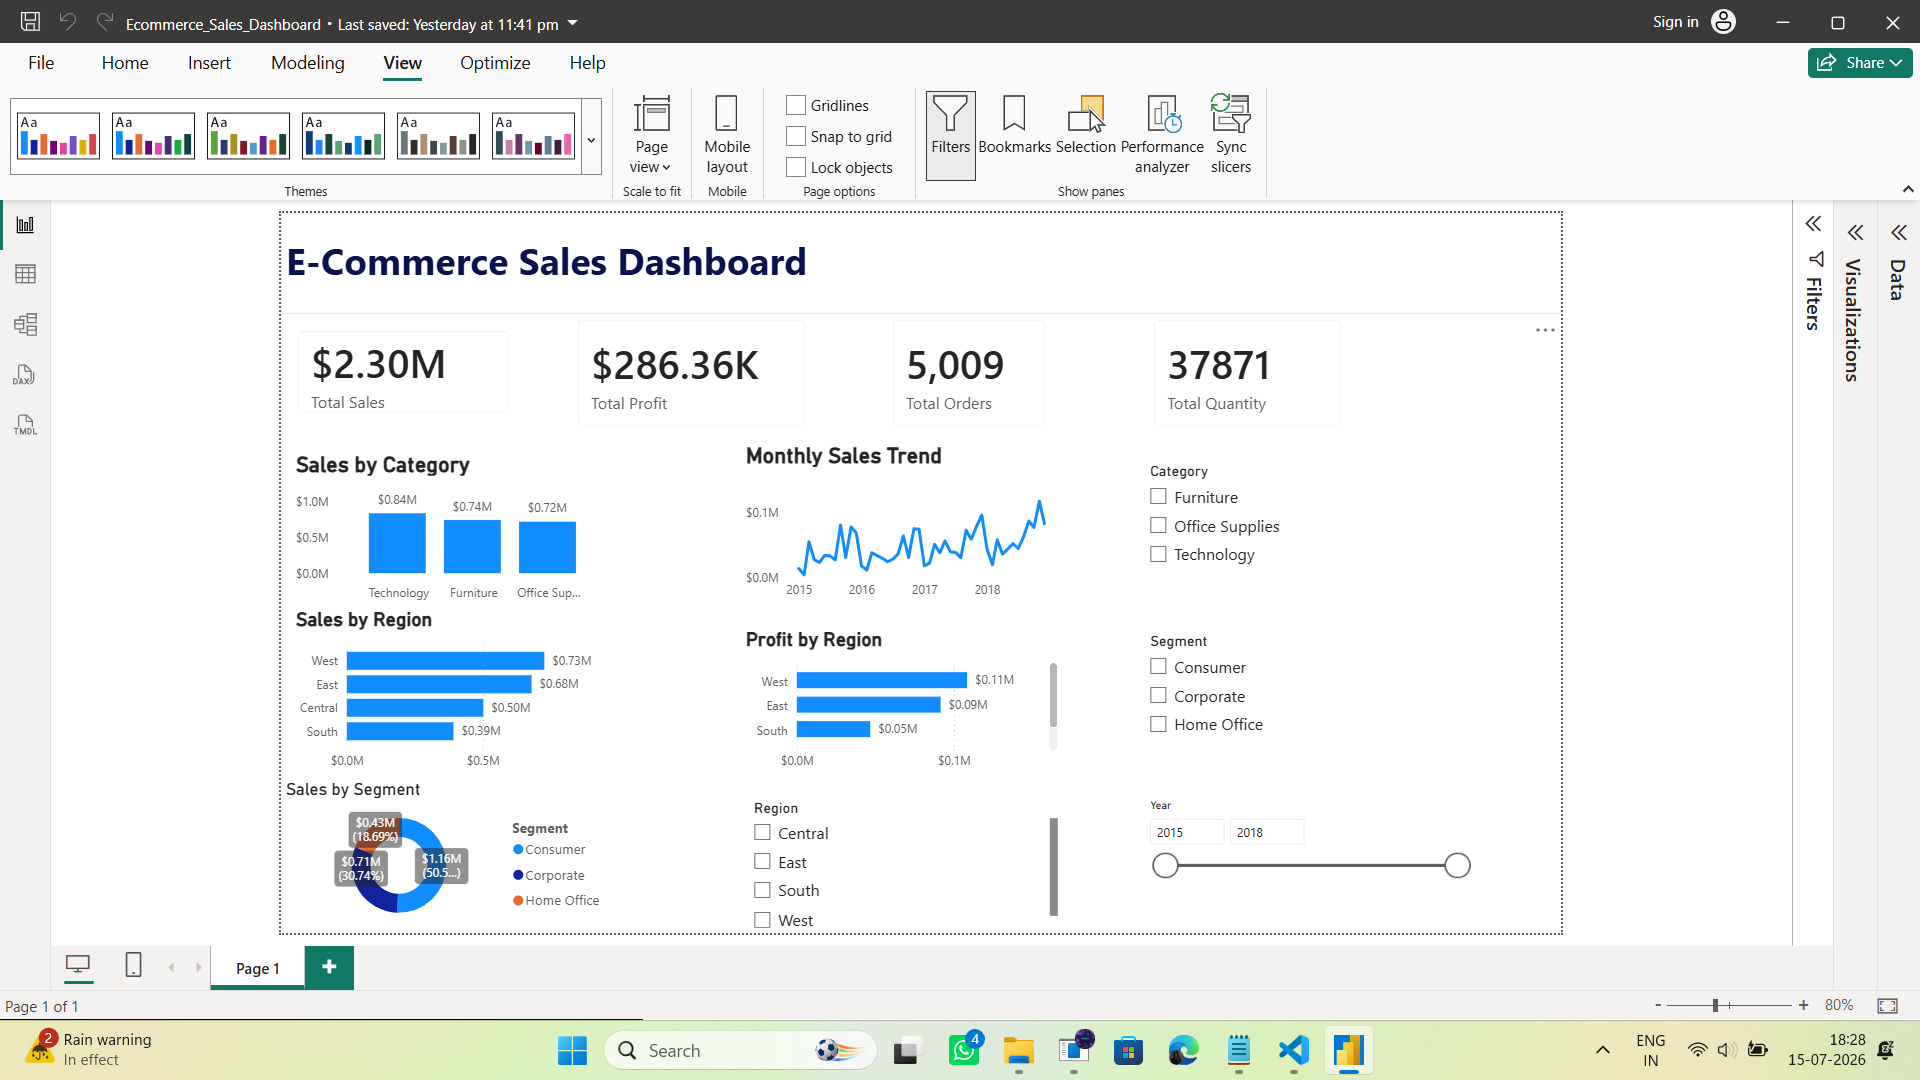

The dashboard page shown, as its layout file describes it:
{"tool":"powerbi","page":{"name":"Page 1","canvas":[1280,720],"ordinal":0},"visuals":[{"type":"cardVisual","fields":{"Data":["cleaned_superset.Total Sales"]},"box":[0,101.7,245,116.7],"z":0},{"type":"cardVisual","fields":{"Data":["cleaned_superset.Total Quantity"]},"box":[856.7,90,221.7,140],"z":1000},{"type":"cardVisual","fields":{"Data":["cleaned_superset.Total Orders"]},"box":[595,90,186.7,140],"z":2000},{"type":"cardVisual","fields":{"Data":["cleaned_superset.Total Profit"]},"box":[280,90,261.7,140],"z":3000},{"type":"textbox","box":[0,0,1280,101.7],"z":4000},{"type":"clusteredColumnChart","title":" Sales by Category","fields":{"Category":["cleaned_superset.Category"],"Y":["cleaned_superset.Total Sales"]},"box":[10,238.3,323.3,156.7],"z":5000},{"type":"lineChart","title":"Monthly Sales Trend","fields":{"Y":["cleaned_superset.Total Sales"],"Category":["cleaned_superset.Order Date.Variation.Date Hierarchy.Year","cleaned_superset.Order Date.Variation.Date Hierarchy.Month"]},"box":[460,230,321.7,165],"z":6000},{"type":"clusteredBarChart","title":"Sales by Region","fields":{"Category":["cleaned_superset.Region"],"Y":["cleaned_superset.Total Sales"]},"box":[10,395,323.3,171.7],"z":7000},{"type":"clusteredBarChart","title":"Profit by Region","fields":{"Category":["cleaned_superset.Region"],"Y":["cleaned_superset.Total Profit"]},"box":[460,415,321.7,151.7],"z":8000},{"type":"donutChart","title":"Sales by Segment","fields":{"Category":["cleaned_superset.Segment"],"Y":["cleaned_superset.Total Sales"]},"box":[0,566.7,333.3,153.3],"z":9000},{"type":"slicer","fields":{"Values":["cleaned_superset.Region"]},"box":[460,581.7,321.7,138.3],"z":9001},{"type":"slicer","fields":{"Values":["cleaned_superset.Order Date.Variation.Date Hierarchy.Year"]},"box":[856.7,581.7,341.7,138.3],"z":9002},{"type":"slicer","fields":{"Values":["cleaned_superset.Segment"]},"box":[856.7,415,341.7,151.7],"z":9003},{"type":"slicer","fields":{"Values":["cleaned_superset.Category"]},"box":[856.7,245,341.7,150],"z":9004}]}

Visuals, with their boxes on the page's 1280x720 design canvas (x1, y1, x2, y2). These are canvas units, not pixel positions in the 1920x1080 screenshot, which may show the page scaled, cropped or inside an application window:
cardVisual - cleaned_superset.Total Sales: 0:102:245:218
cardVisual - cleaned_superset.Total Quantity: 857:90:1078:230
cardVisual - cleaned_superset.Total Orders: 595:90:782:230
cardVisual - cleaned_superset.Total Profit: 280:90:542:230
textbox: 0:0:1280:102
" Sales by Category" clusteredColumnChart: 10:238:333:395
"Monthly Sales Trend" lineChart: 460:230:782:395
"Sales by Region" clusteredBarChart: 10:395:333:567
"Profit by Region" clusteredBarChart: 460:415:782:567
"Sales by Segment" donutChart: 0:567:333:720
slicer - cleaned_superset.Region: 460:582:782:720
slicer - cleaned_superset.Order Date.Variation.Date Hierarchy.Year: 857:582:1198:720
slicer - cleaned_superset.Segment: 857:415:1198:567
slicer - cleaned_superset.Category: 857:245:1198:395
